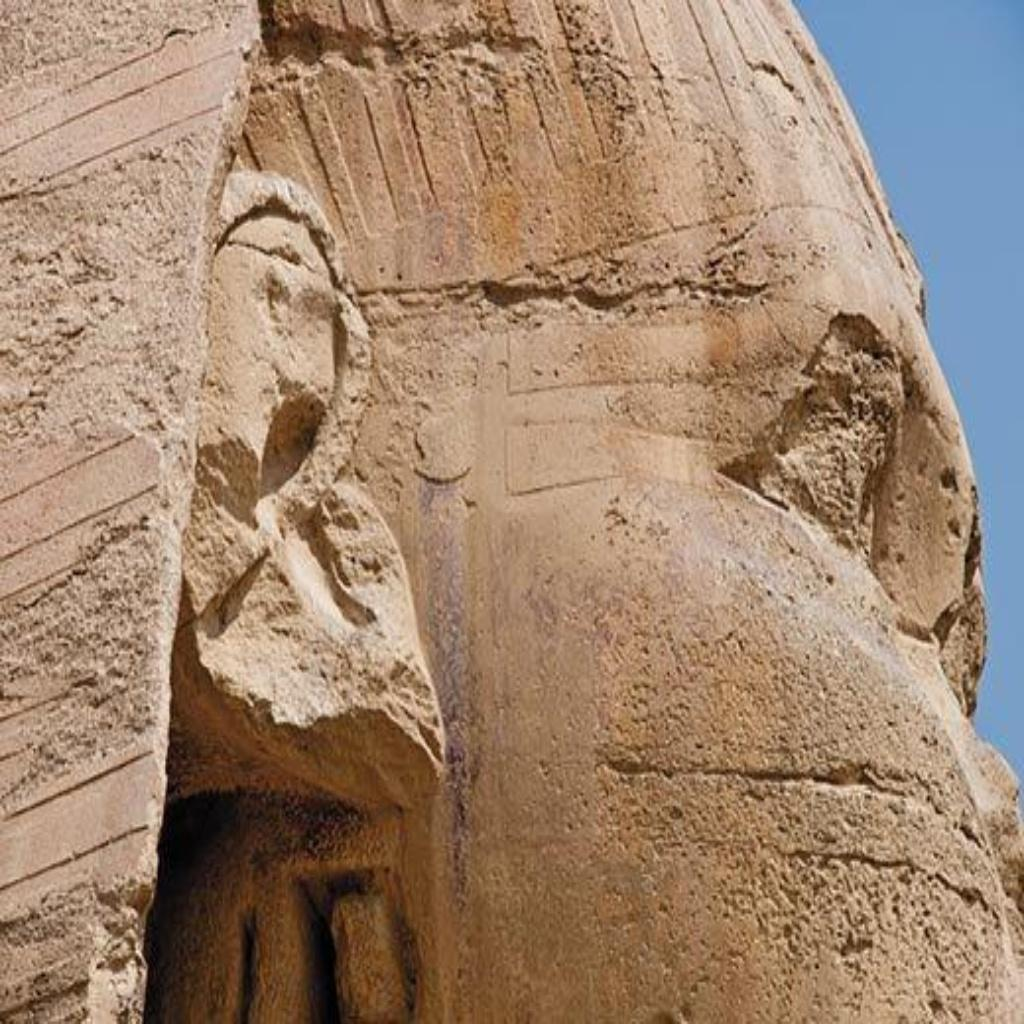Sphinx: (130, 0, 1022, 1021)
